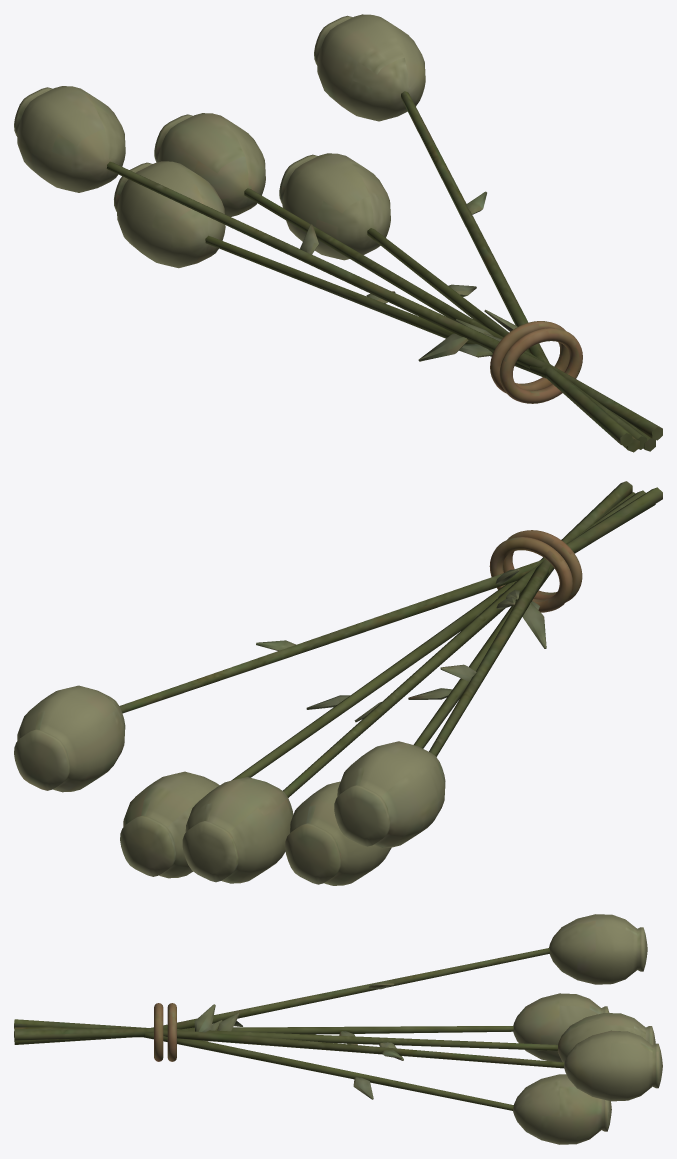
Rendered from poppy.glb.
3 renders of one model, top to bottom at view 1: azimuth 30°, elevation 25°; view 2: azimuth 150°, elevation 25°; view 3: azimuth 270°, elevation 25°, orthographic. The views are drawn at different scales.
Visible parts, largest first — view 1: poppy; view 2: poppy; view 3: poppy.
Part boxes in pixels (<box>): poppy: <box>14,14,662,452</box>; poppy: <box>14,481,662,885</box>; poppy: <box>14,914,662,1144</box>.
Bounding box in the file's own units: 0.0962 × 0.0459 × 0.1912.
1 material, 1 textured.
